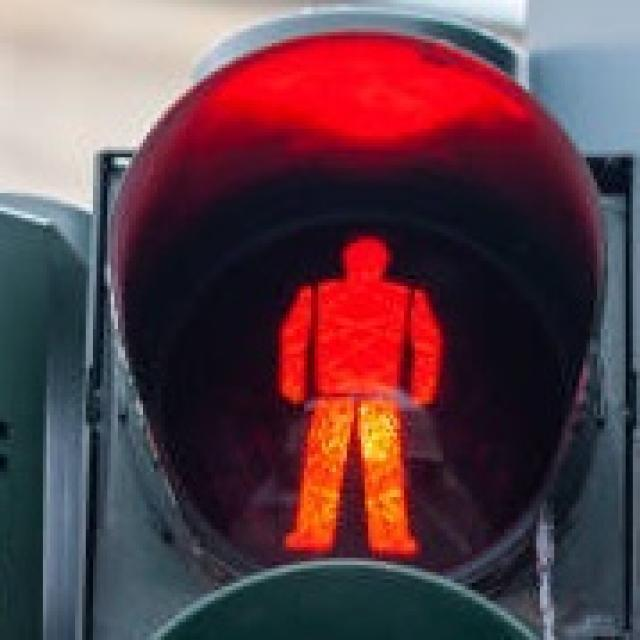red-crossing: (261, 207, 451, 572)
